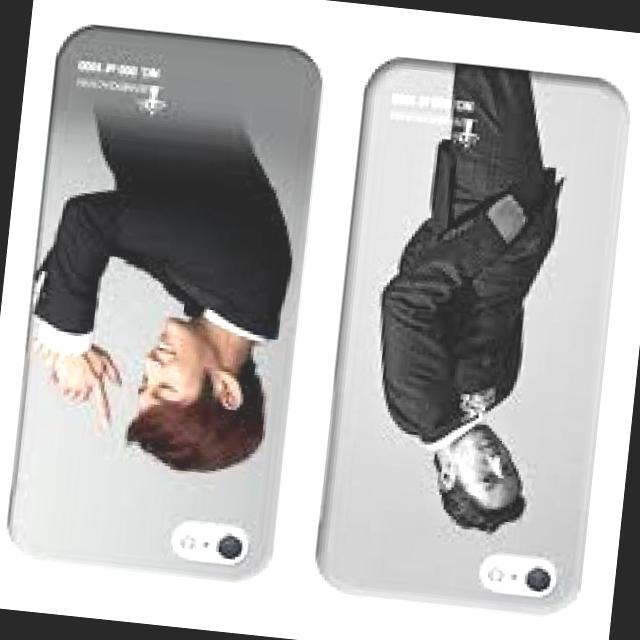lens_back: (201, 524, 254, 568), (518, 557, 558, 597)
phone: (303, 46, 636, 626), (0, 13, 328, 597)
